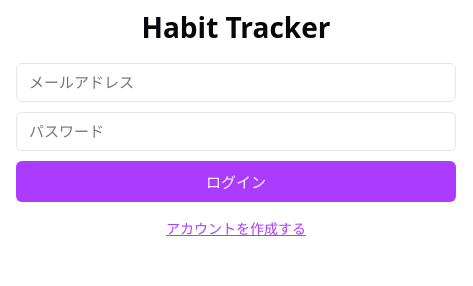
Test: LoginForm › ログインに失敗すると、エラーメッセージを表示する
Step 1. Type "a@example.com" into the field labelled "メールアドレス" → (236, 83), box [16,63,456,102]
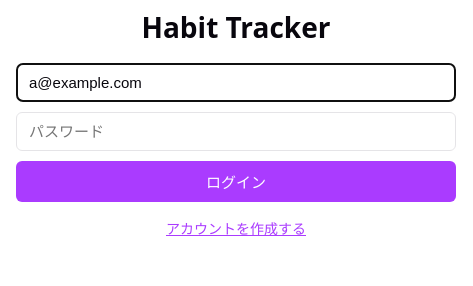
Step 2. Type "password123" into the password field labelled "パスワード" → (236, 132), box [16,112,456,151]
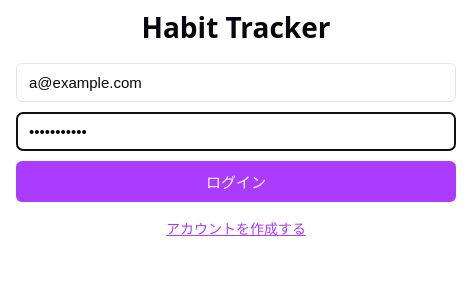
Step 3. Click the button "ログイン" → (236, 182), box [16,161,456,202]
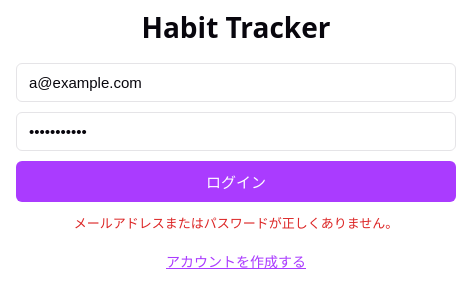
Expected: the text "メールアドレスまたはパスワードが正しくありません。" is shown, [74,214,398,232]
